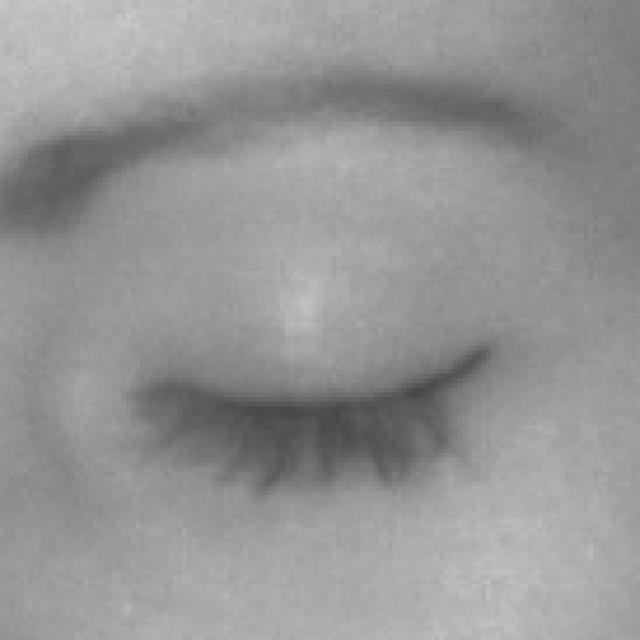close: (0, 67, 610, 542)
